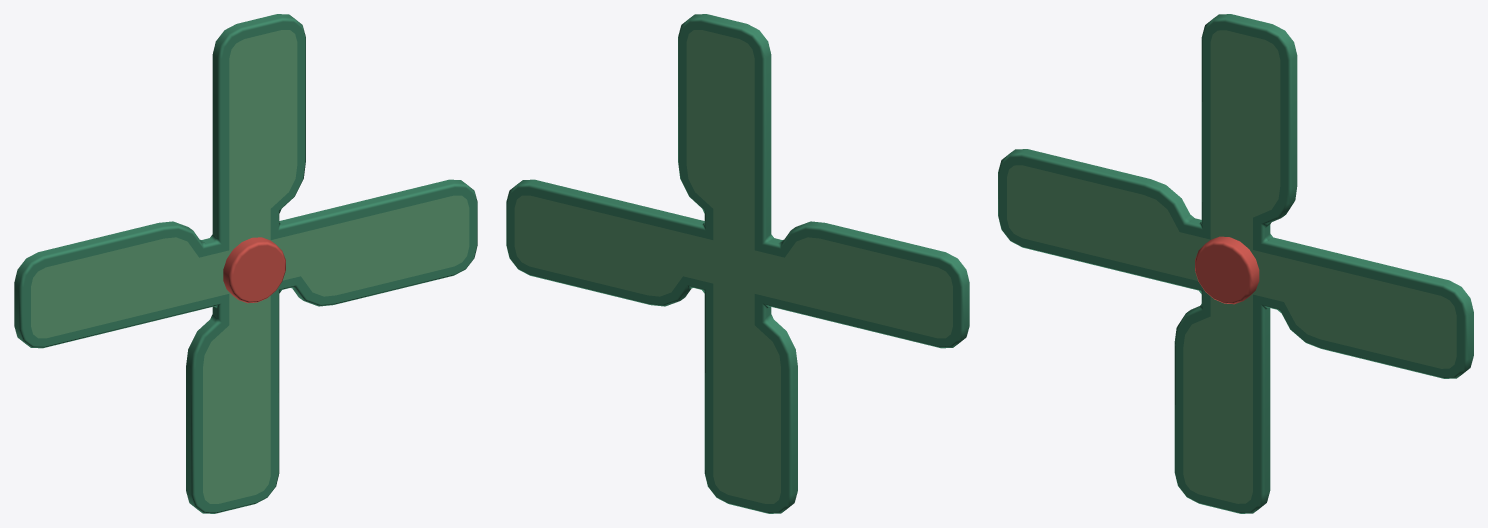
Rendered from Windmill.fbx.
3 renders of one model, left to right at view 1: azimuth 30°, elevation 25°; view 2: azimuth 150°, elevation 25°; view 3: azimuth 330°, elevation 25°, orthographic. The views are drawn at different scales.
Visible parts, largest first — view 1: Windmill; view 2: Windmill; view 3: Windmill.
Boxes of the visible parts, left/top/right/bottom form: Windmill: left=14, top=14, right=477, bottom=513; Windmill: left=506, top=14, right=969, bottom=513; Windmill: left=998, top=14, right=1473, bottom=513.
Bounding box in the file's own units: 4.63 × 4.63 × 0.2989.
